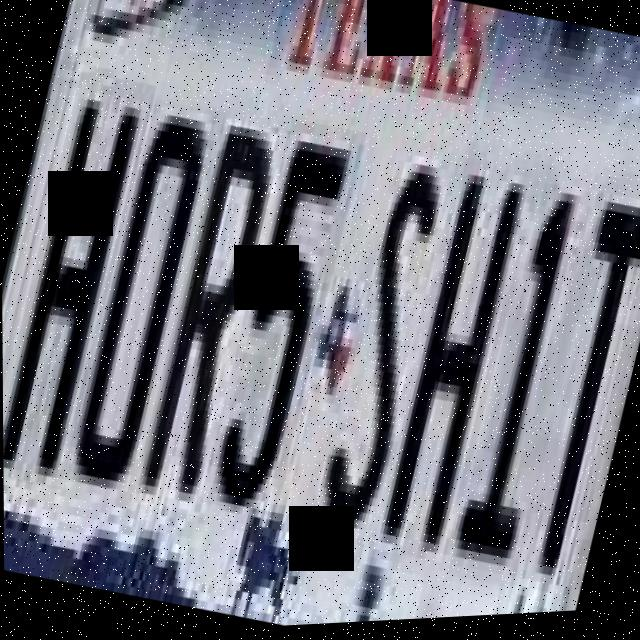0: (62, 98, 228, 495)
1: (447, 186, 609, 596)
5: (197, 119, 368, 523)
H: (372, 164, 542, 575), (0, 68, 159, 492)
R: (133, 122, 297, 523)
S: (302, 145, 467, 553)
T: (505, 174, 640, 608)
